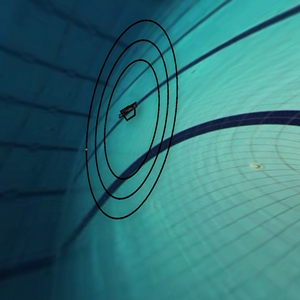circle: (69, 9, 209, 241)
submarine: (112, 98, 145, 129)
